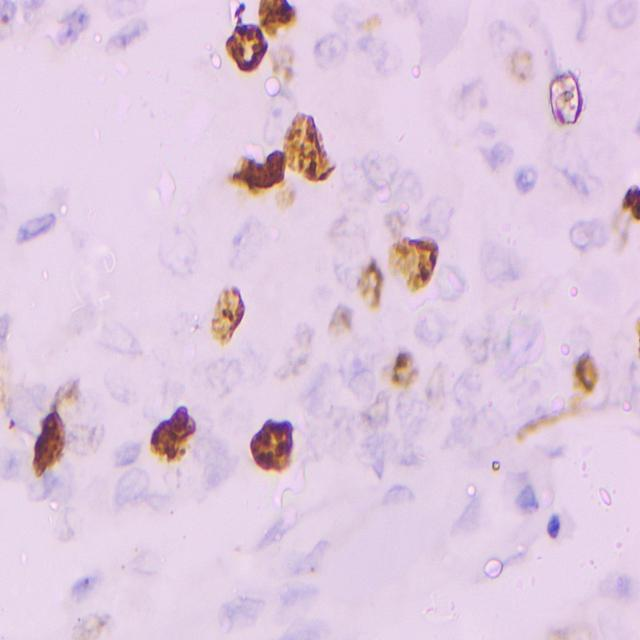Healthy cell: (542, 127, 613, 199), (499, 303, 557, 371), (196, 426, 248, 492), (102, 347, 155, 398), (478, 235, 528, 287), (156, 219, 200, 278), (214, 590, 266, 638), (229, 213, 269, 268), (105, 20, 157, 62), (449, 408, 481, 472), (72, 560, 114, 607), (113, 462, 153, 511), (226, 344, 264, 394), (16, 212, 64, 250), (597, 565, 640, 607), (363, 136, 399, 185), (314, 29, 350, 75), (398, 396, 422, 464), (569, 219, 609, 258), (203, 353, 242, 393), (340, 350, 379, 389), (353, 420, 386, 466), (418, 303, 454, 344), (263, 92, 290, 143), (510, 476, 542, 519), (476, 134, 512, 172), (423, 199, 456, 240), (5, 445, 32, 495), (476, 402, 510, 440), (449, 369, 479, 409), (442, 266, 469, 306), (305, 376, 333, 414), (604, 0, 638, 31), (97, 0, 149, 20), (392, 165, 420, 202), (512, 159, 536, 198), (375, 45, 403, 73), (112, 436, 136, 468)
cancer-cell-QiJm: (287, 109, 345, 184), (513, 399, 577, 448), (269, 322, 319, 384), (388, 236, 438, 298), (253, 416, 297, 474), (449, 74, 497, 122), (543, 70, 584, 126), (33, 413, 68, 478), (209, 282, 244, 346), (232, 152, 288, 192), (223, 23, 267, 71), (384, 343, 426, 392), (42, 5, 92, 46), (322, 206, 359, 256), (64, 414, 104, 458), (569, 348, 596, 412), (360, 390, 401, 432), (147, 422, 190, 462), (257, 0, 306, 35), (359, 256, 386, 316), (505, 42, 539, 88), (614, 175, 640, 235), (543, 614, 601, 640), (70, 610, 120, 640), (0, 342, 20, 415), (380, 207, 414, 245), (460, 318, 489, 362), (267, 40, 298, 81), (168, 403, 198, 445), (52, 370, 80, 414), (325, 302, 356, 341), (356, 5, 385, 38), (15, 0, 43, 33), (627, 299, 640, 349), (273, 179, 296, 207), (233, 0, 256, 25), (0, 0, 17, 29), (487, 450, 507, 474), (3, 410, 21, 430), (628, 310, 628, 317)
